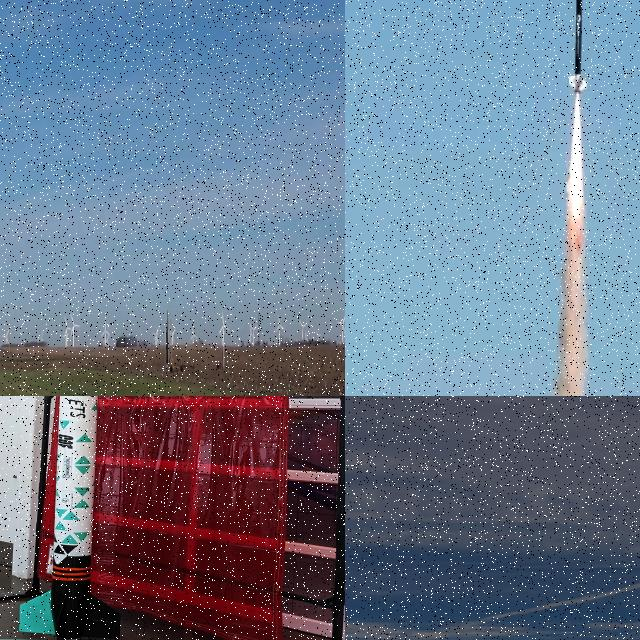Rocket: (19, 396, 120, 640), (567, 0, 588, 96), (166, 324, 170, 364)
